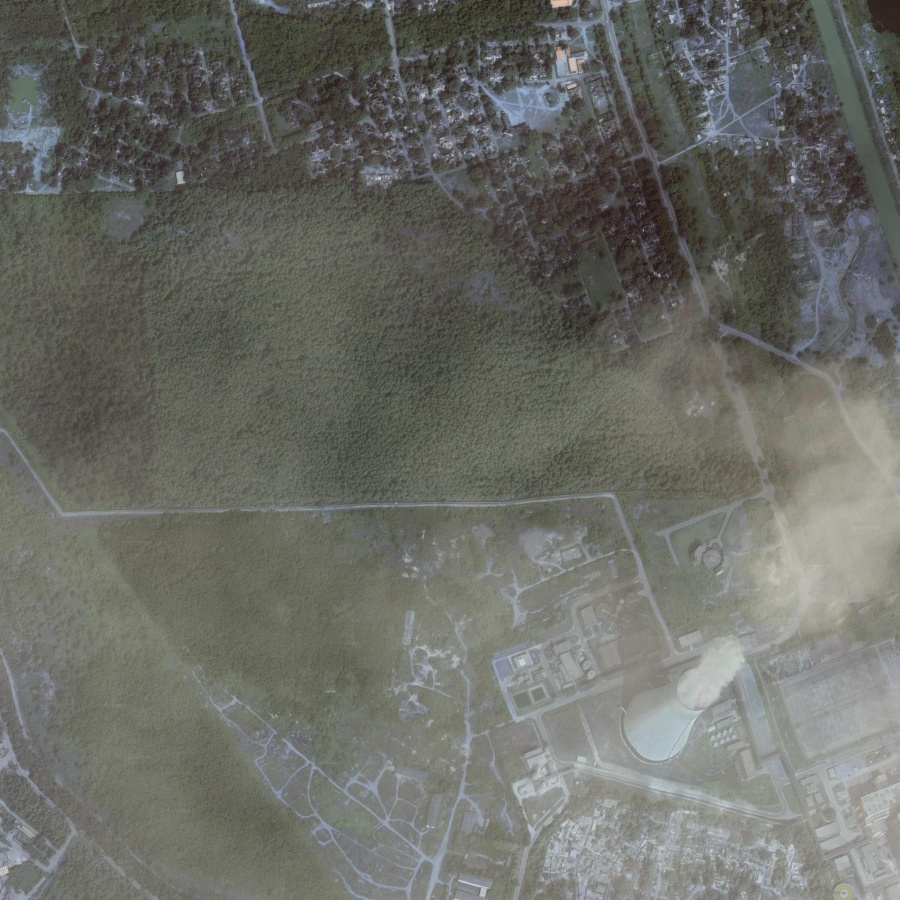PowerPlant: (613, 596, 768, 807)
